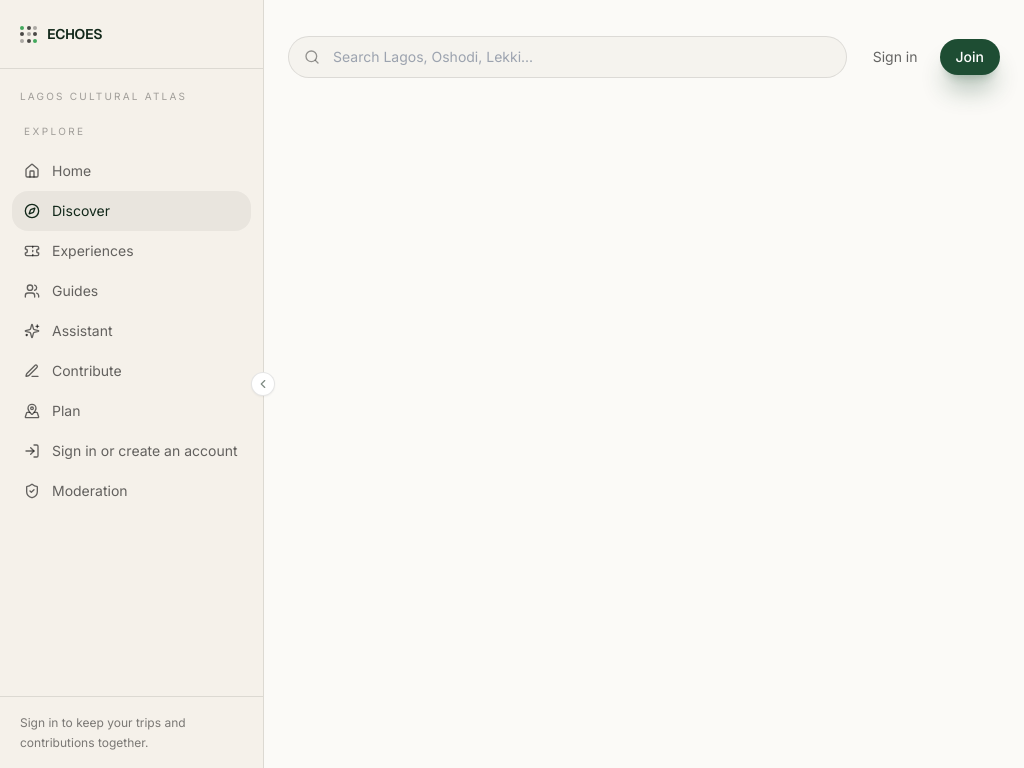
Test: where the rail belongs › collapses to icons, and remembers the choice
The width and height of the screenshot is (1024, 768).
Step 1. Click the button named "collapse sidebar" → (263, 384), box [251,372,275,396]
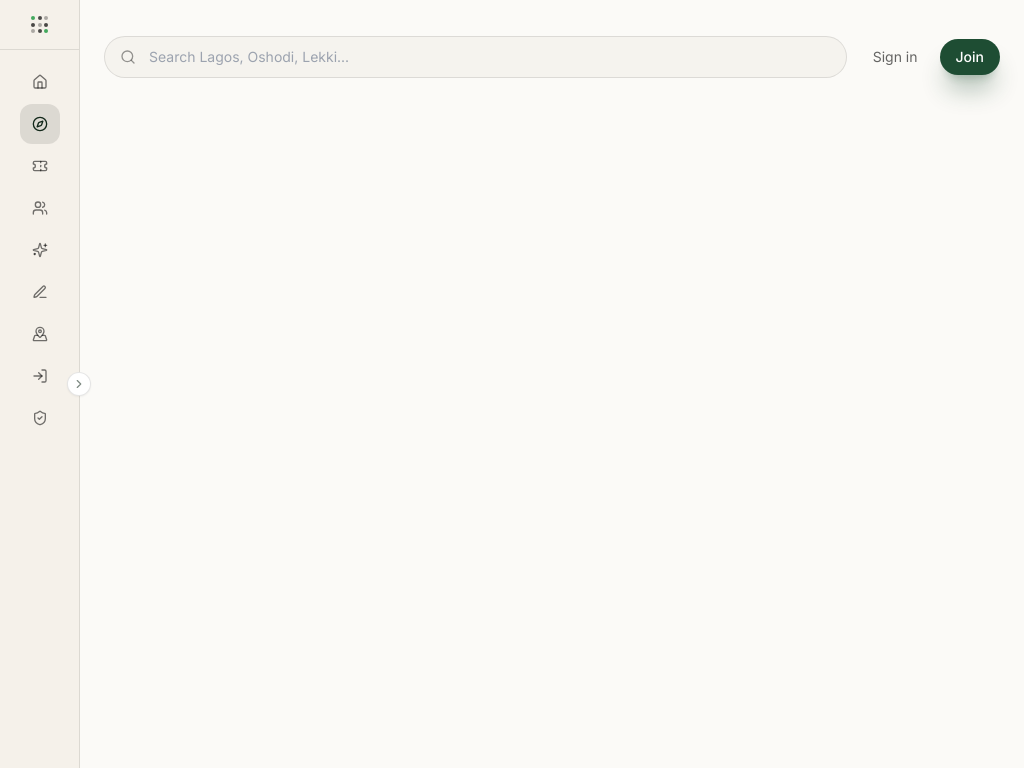
Expected: the button named "expand sidebar" is shown, [67,372,91,396]
